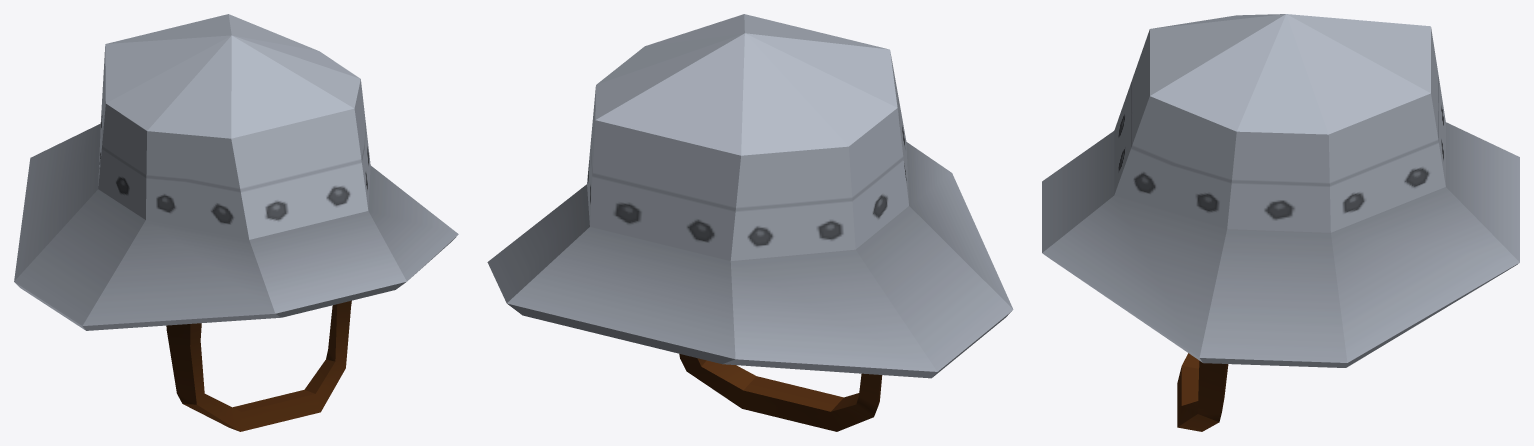
Rendered from pk-polysplit-heroes-kettlehat-m.glb.
3 views of the same model, side by side, from view 1: azimuth 30°, elevation 25°; view 2: azimuth 150°, elevation 25°; view 3: azimuth 270°, elevation 25° (orthographic). The views are drawn at different scales.
Parts seen in each view (by area): view 1: KettleHat_M; view 2: KettleHat_M; view 3: KettleHat_M.
Part boxes in pixels (bbox=[...]): KettleHat_M: bbox=[14, 14, 458, 431]; KettleHat_M: bbox=[487, 14, 1013, 431]; KettleHat_M: bbox=[1042, 14, 1519, 431].
Bounding box in the file's own units: 0.4284 × 0.3817 × 0.4174.
1 material, 1 textured.
